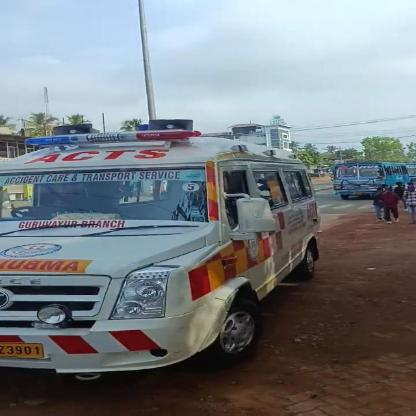priority: (0, 115, 330, 393)
